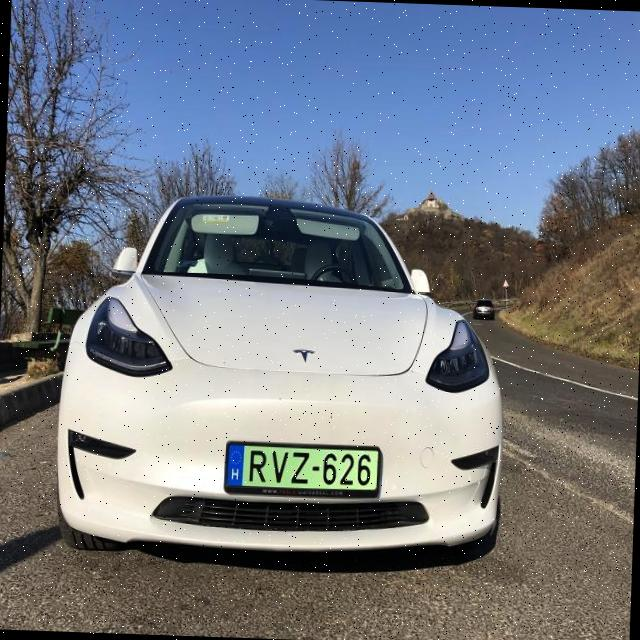licence: (222, 440, 384, 504)
